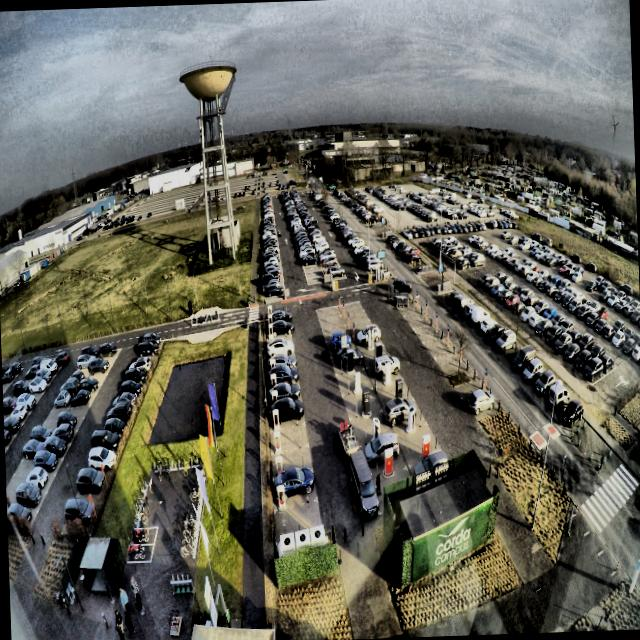cabinet: (279, 526, 325, 551)
car: (272, 462, 315, 500), (268, 396, 305, 426), (267, 362, 300, 386), (267, 381, 300, 404), (266, 352, 297, 372), (266, 337, 294, 356), (267, 318, 294, 336), (271, 309, 293, 324)
parking: (272, 469, 317, 508), (274, 501, 321, 538), (271, 443, 312, 478), (269, 424, 308, 453), (268, 405, 304, 431), (267, 385, 302, 409), (267, 370, 298, 390), (267, 355, 296, 373), (266, 343, 294, 360), (265, 334, 292, 348), (265, 324, 291, 337), (265, 314, 289, 327)
supercharger: (276, 485, 285, 508), (273, 429, 281, 453), (275, 456, 283, 478), (272, 408, 280, 429), (270, 372, 276, 390), (271, 390, 277, 406), (269, 358, 275, 373), (269, 346, 274, 359), (268, 334, 273, 345), (267, 313, 272, 324), (268, 323, 272, 334), (267, 305, 271, 315)
